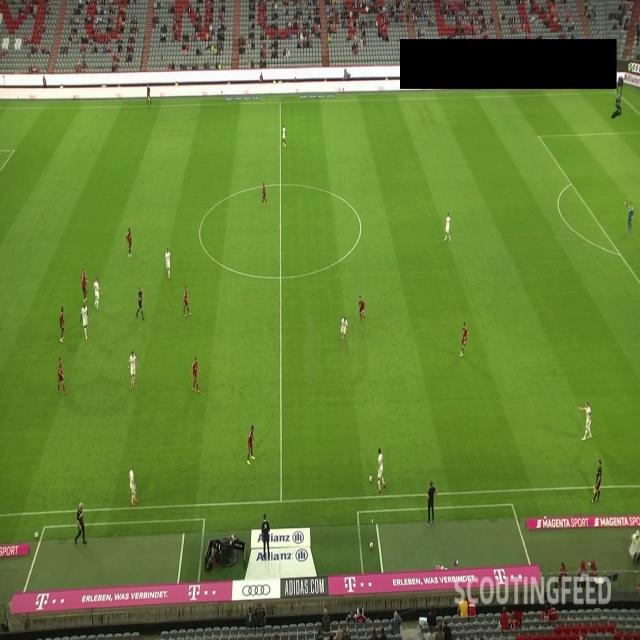ball: (368, 470, 374, 484)
player: (581, 396, 593, 442), (129, 463, 139, 508), (457, 319, 467, 358), (191, 357, 200, 399), (80, 267, 89, 304), (247, 424, 254, 466), (125, 224, 133, 259), (377, 444, 384, 484), (164, 244, 172, 278), (626, 202, 635, 232), (93, 276, 100, 313), (129, 355, 136, 388), (183, 282, 190, 315), (58, 357, 64, 395), (59, 305, 65, 342), (444, 212, 451, 243), (82, 301, 88, 337), (358, 292, 366, 319), (342, 314, 348, 344), (281, 124, 287, 149), (262, 181, 268, 205)
